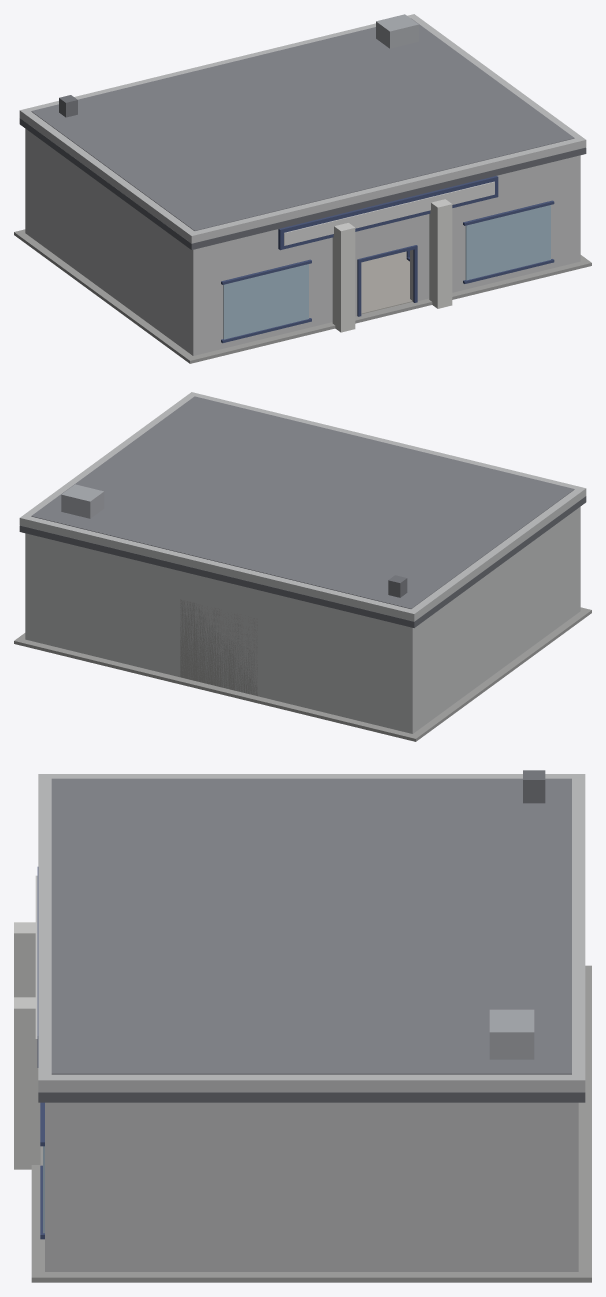
The model's file is Bina_Banka.glb.
The picture shows the model from 3 angles, top to bottom: view 1: azimuth 30°, elevation 25°; view 2: azimuth 150°, elevation 25°; view 3: azimuth 270°, elevation 25°; orthographic projection. The views are drawn at different scales.
Visible parts, largest first — view 1: Bina_Banka; view 2: Bina_Banka; view 3: Bina_Banka.
Part boxes in pixels (x1,y1,x2,y2): Bina_Banka: (14, 14, 591, 363); Bina_Banka: (14, 392, 591, 741); Bina_Banka: (14, 770, 591, 1282).
Size of the model in its own units: 16.6 by 5.65 by 13.
